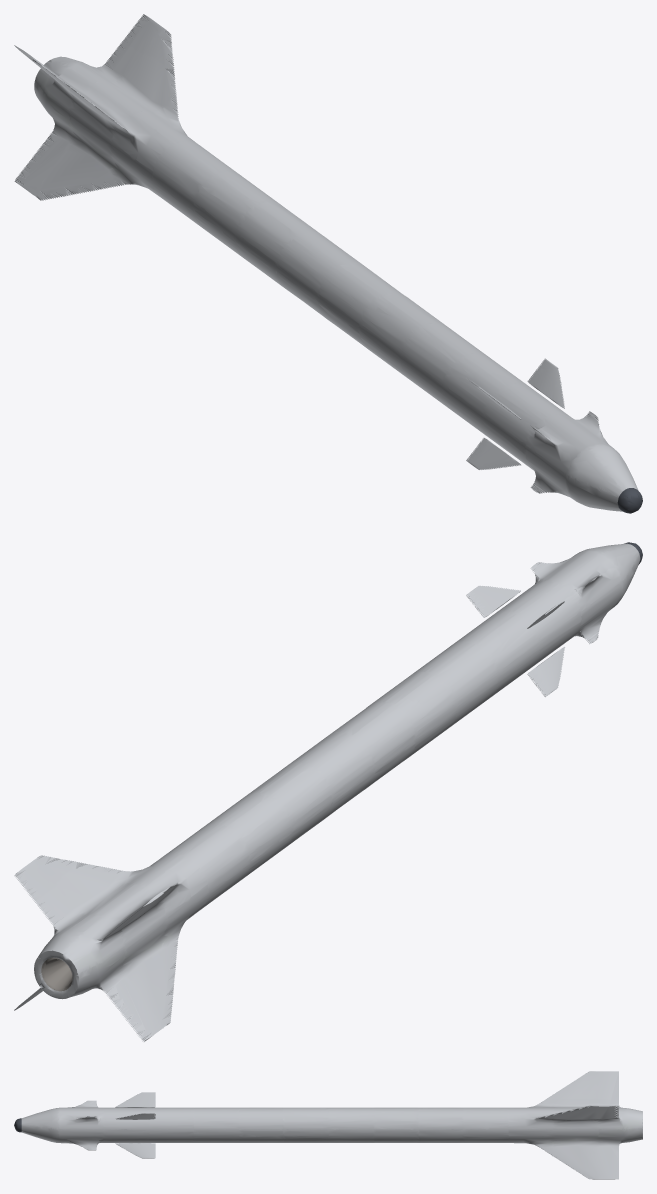
3 renders of one model, top to bottom at view 1: azimuth 30°, elevation 25°; view 2: azimuth 150°, elevation 25°; view 3: azimuth 270°, elevation 25°, orthographic. The views are drawn at different scales.
Visible parts, largest first — view 1: airframe, fsim:fin:3843635521:-1|elevator+rudder:1@-20,20, fsim:fin:1059709083:-1|elevator+rudder:1@-20,20; view 2: airframe, fsim:fin:1059709083:-1|elevator+rudder:1@-20,20, fsim:fin:3843635521:-1|elevator+rudder:1@-20,20; view 3: airframe, fsim:fin:1637764248:-1|elevator+rudder:-1@-20,20, fsim:fin:2085543767:-1|elevator+rudder:-1@-20,20, fsim:fin:3843635521:-1|elevator+rudder:1@-20,20.
Part boxes in pixels (bbox=[...]): airframe: bbox=[14, 14, 642, 513]; fsim:fin:3843635521:-1|elevator+rudder:1@-20,20: bbox=[527, 358, 564, 408]; fsim:fin:1059709083:-1|elevator+rudder:1@-20,20: bbox=[466, 438, 521, 469]; airframe: bbox=[14, 542, 642, 1041]; fsim:fin:1059709083:-1|elevator+rudder:1@-20,20: bbox=[527, 647, 564, 696]; fsim:fin:3843635521:-1|elevator+rudder:1@-20,20: bbox=[466, 585, 520, 617]; airframe: bbox=[14, 1071, 642, 1179]; fsim:fin:1637764248:-1|elevator+rudder:-1@-20,20: bbox=[115, 1092, 155, 1107]; fsim:fin:2085543767:-1|elevator+rudder:-1@-20,20: bbox=[115, 1143, 155, 1158]; fsim:fin:3843635521:-1|elevator+rudder:1@-20,20: bbox=[115, 1113, 155, 1119].
Size of the model in its own units: 0.2792 by 0.2788 by 2.13.
Materials: 4 (1 with a texture image).
